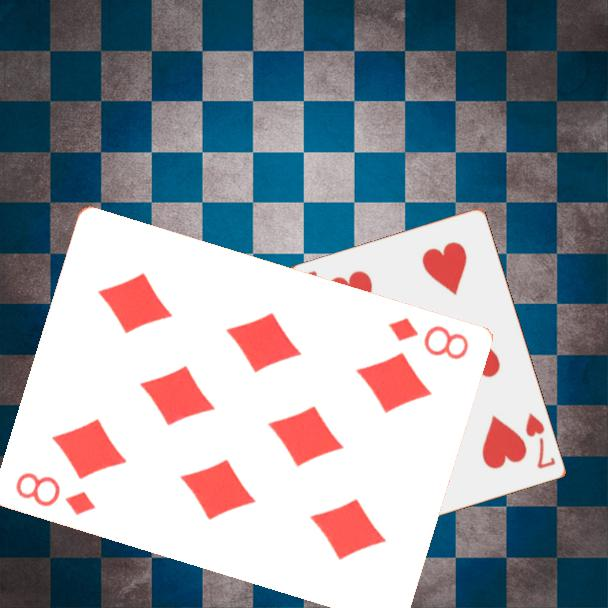d08: (11, 469, 98, 519), (383, 314, 471, 363)
h07: (522, 409, 559, 472)
